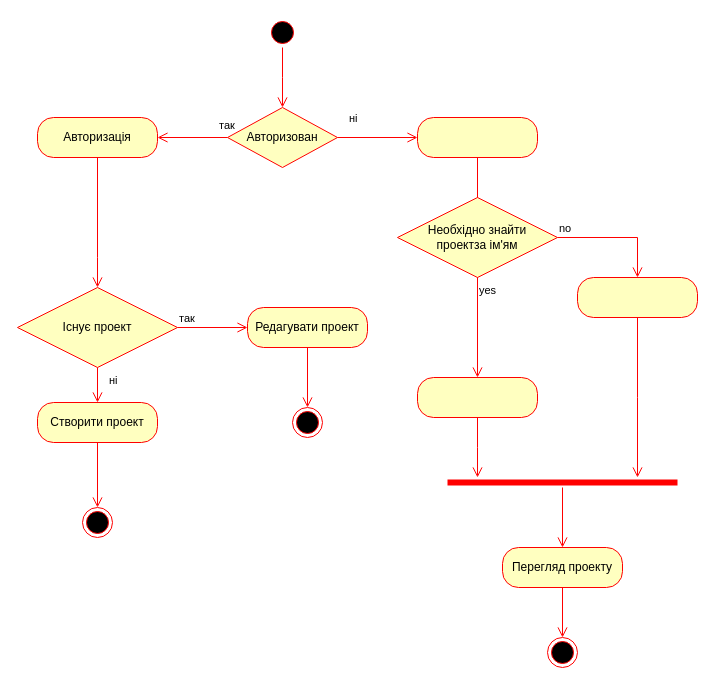
Image size: 715x685. Some labels were removed from this diagram. Here are the shapes that lost their labels. From the top down, the centre of each, then its label:
At point (477, 137): "Перегляд списку проектів".
At point (637, 297): "Застосування фільтра".
At point (477, 397): "Пошук проектів за ім'ям".
